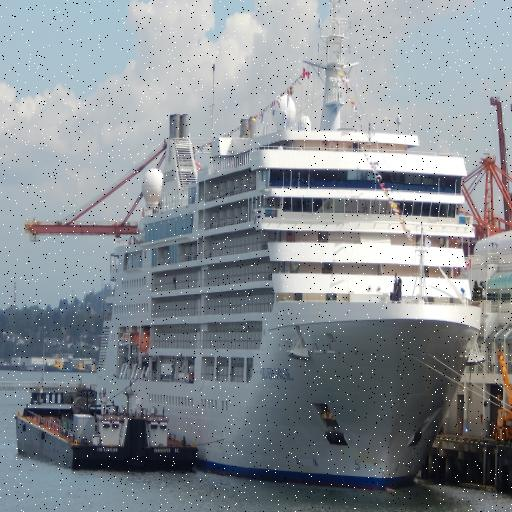cruises: (90, 1, 492, 501)
